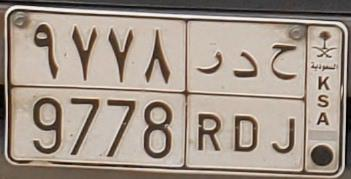7: (103, 26, 138, 158), (68, 21, 101, 155)
8: (142, 27, 175, 159)
9: (29, 23, 63, 154)
D: (232, 48, 260, 155)
J: (270, 41, 300, 155)
R: (195, 50, 226, 153)
